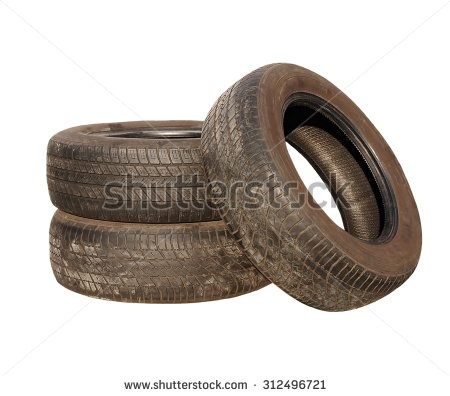tire: (204, 56, 426, 313), (41, 115, 284, 223), (36, 207, 305, 304)
